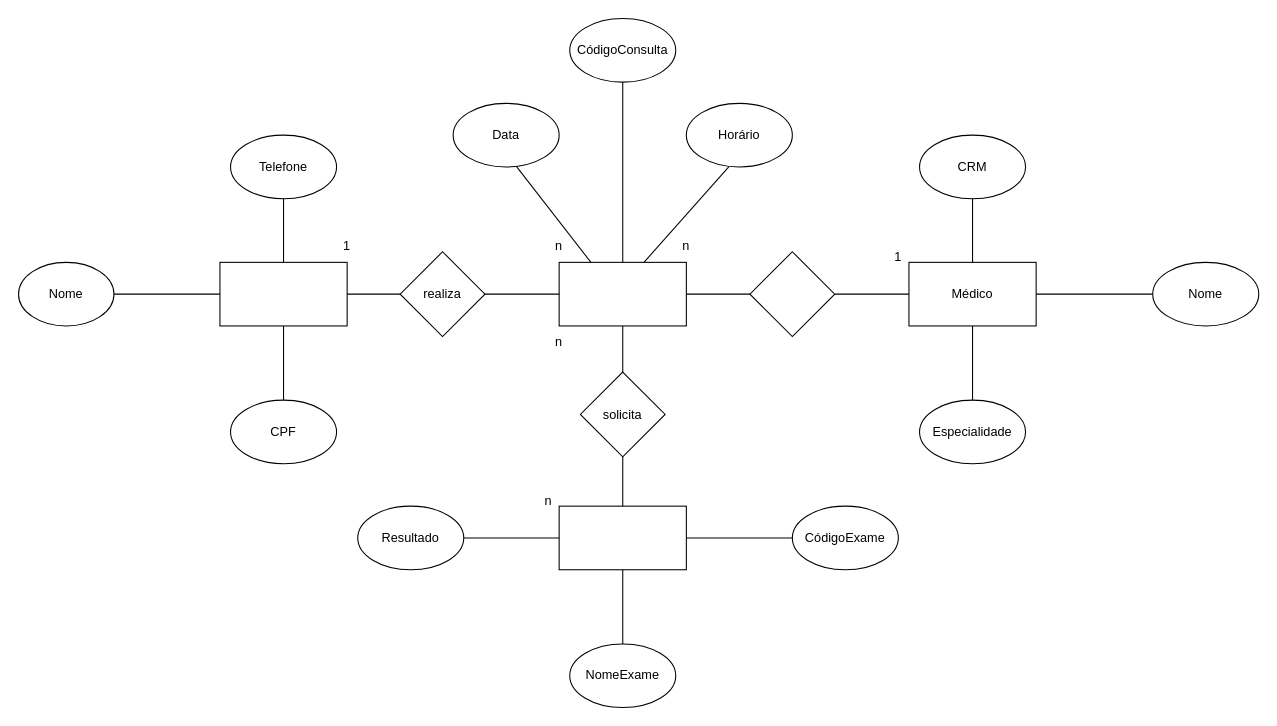
Some shapes in this 1277 by 726 pixel diagram are drawn without their labels. Each missing label, with the centre of its shape:
atende: (x=792, y=294)
Consulta: (x=622, y=293)
Exame: (x=622, y=537)
Paciente: (x=283, y=293)
